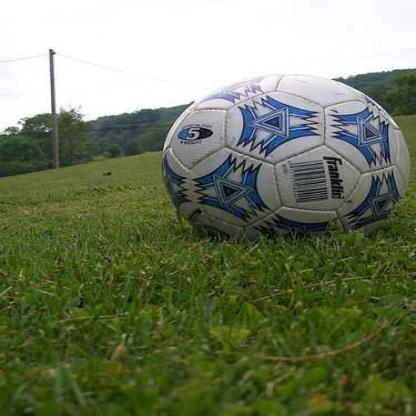ball: (164, 72, 408, 242)
